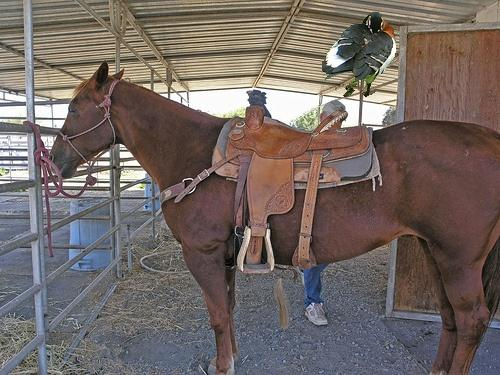tampered: (323, 13, 396, 97)
